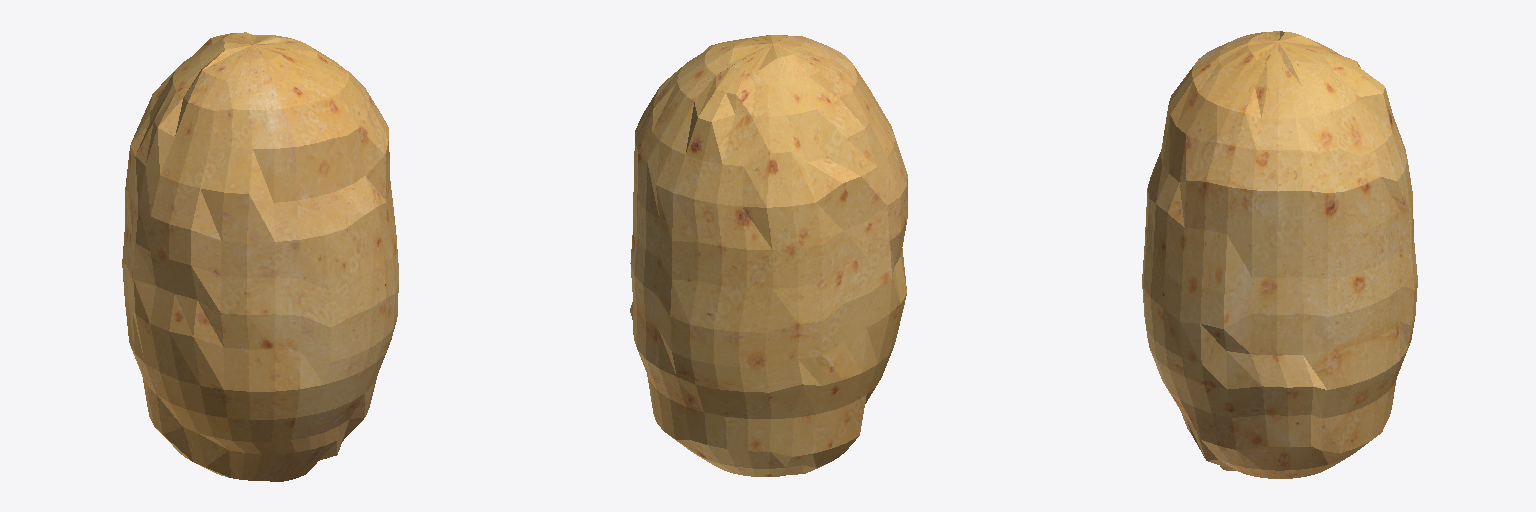
The picture shows the model from 3 angles: view 1: azimuth 30°, elevation 25°; view 2: azimuth 150°, elevation 25°; view 3: azimuth 270°, elevation 25°; orthographic projection.
Parts seen in each view (by area): view 1: Sphere; view 2: Sphere; view 3: Sphere.
Part boxes in pixels (left/top/right/bottom): Sphere: left=122, top=32, right=398, bottom=481; Sphere: left=630, top=35, right=907, bottom=476; Sphere: left=1142, top=31, right=1417, bottom=478.
Bounding box in the file's own units: 0.0995 × 0.1639 × 0.0964.
Materials: 1 (1 with a texture image).